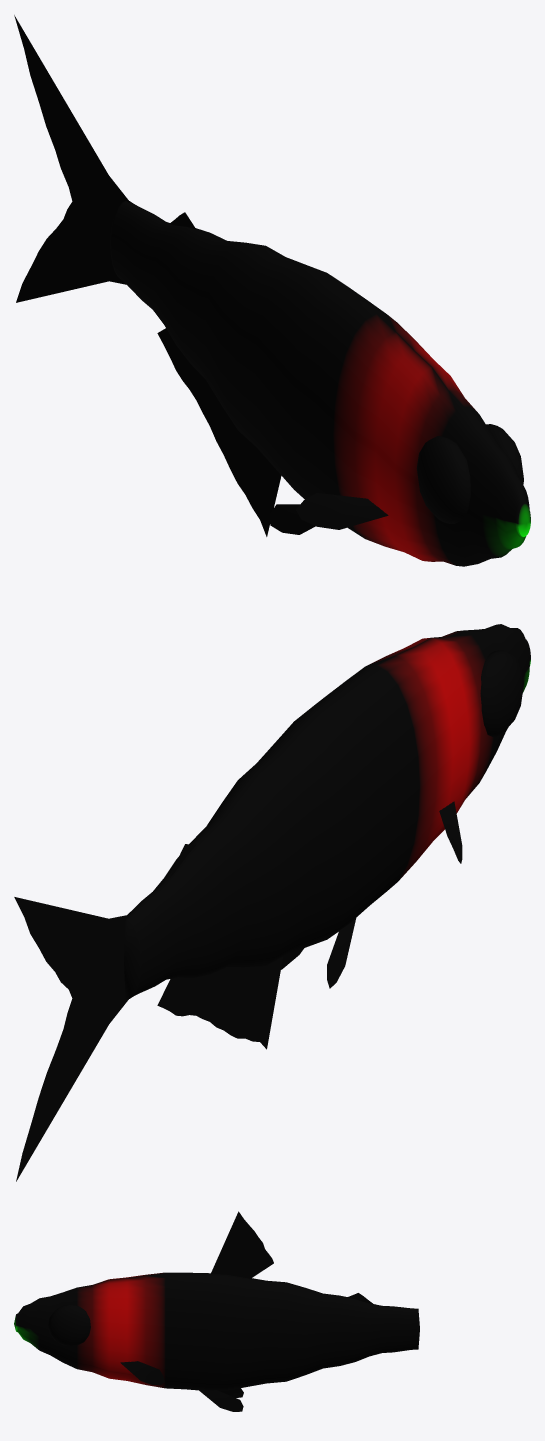
The model's file is ember-tetra.glb.
3 renders of one model, top to bottom at view 1: azimuth 30°, elevation 25°; view 2: azimuth 150°, elevation 25°; view 3: azimuth 270°, elevation 25°, orthographic. The views are drawn at different scales.
Parts seen in each view (by area): view 1: Ember_wild_body, Ember_wild_caudal, Ember_wild_anal, Ember_wild_eyeL, Ember_wild_pectoralL, Ember_wild_pelvicL, Ember_wild_eyeR; view 2: Ember_wild_body, Ember_wild_caudal, Ember_wild_anal, Ember_wild_eyeL, Ember_wild_pelvicL, Ember_wild_pectoralL; view 3: Ember_wild_body, Ember_wild_dorsal, Ember_wild_eyeR, Ember_wild_pectoralR, Ember_wild_pelvicR.
Boxes of the visible parts, x1,y1,x2,y2 form: Ember_wild_body: (110, 200, 530, 566); Ember_wild_caudal: (14, 15, 129, 302); Ember_wild_anal: (157, 328, 281, 536); Ember_wild_eyeL: (416, 436, 470, 523); Ember_wild_pectoralL: (296, 493, 388, 529); Ember_wild_pelvicL: (270, 504, 315, 534); Ember_wild_eyeR: (486, 424, 523, 484); Ember_wild_body: (124, 624, 530, 999); Ember_wild_caudal: (14, 897, 129, 1181); Ember_wild_anal: (157, 956, 283, 1049); Ember_wild_eyeL: (480, 650, 523, 737); Ember_wild_pelvicL: (327, 918, 356, 988); Ember_wild_pectoralL: (439, 801, 462, 863); Ember_wild_body: (14, 1272, 419, 1390); Ember_wild_dorsal: (211, 1211, 273, 1278); Ember_wild_eyeR: (48, 1305, 90, 1346); Ember_wild_pectoralR: (120, 1361, 164, 1385); Ember_wild_pelvicR: (198, 1390, 243, 1411).
Size of the model in its own units: 0.2343 by 0.588 by 1.28.
